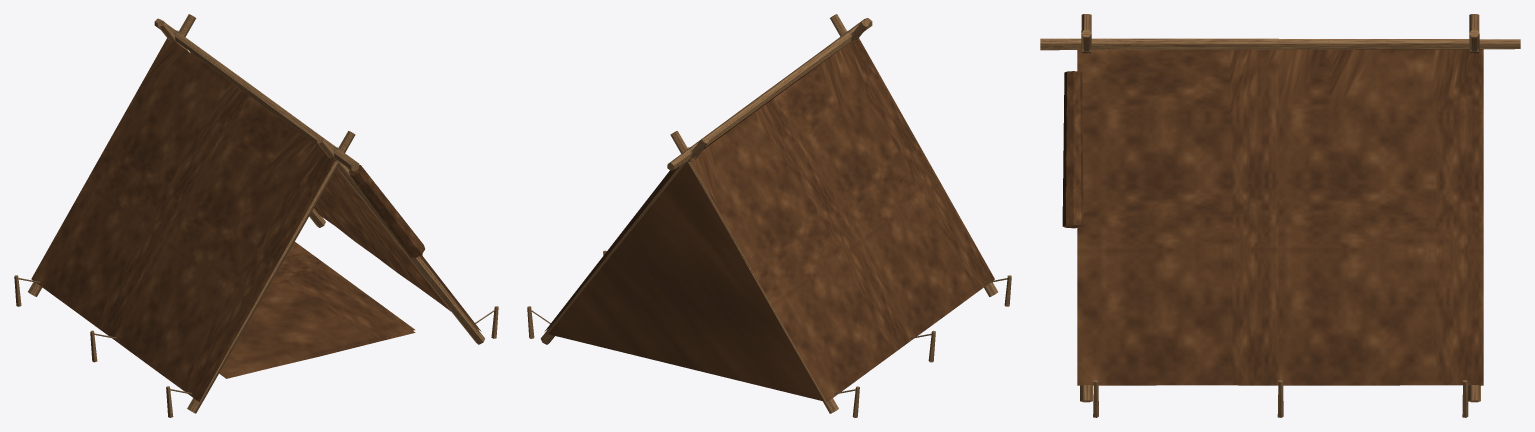
The model's file is PROP_Tent.fbx.
3 views of the same model, side by side, from view 1: azimuth 30°, elevation 25°; view 2: azimuth 150°, elevation 25°; view 3: azimuth 270°, elevation 25° (orthographic). The views are drawn at different scales.
Parts seen in each view (by area): view 1: PROP_Tent; view 2: PROP_Tent; view 3: PROP_Tent.
Boxes of the visible parts, <box> form: PROP_Tent: <box>14,14,498,417</box>; PROP_Tent: <box>527,14,1011,417</box>; PROP_Tent: <box>1040,14,1520,417</box>.
Size of the model in its own units: 2.53 by 1.79 by 2.6.
